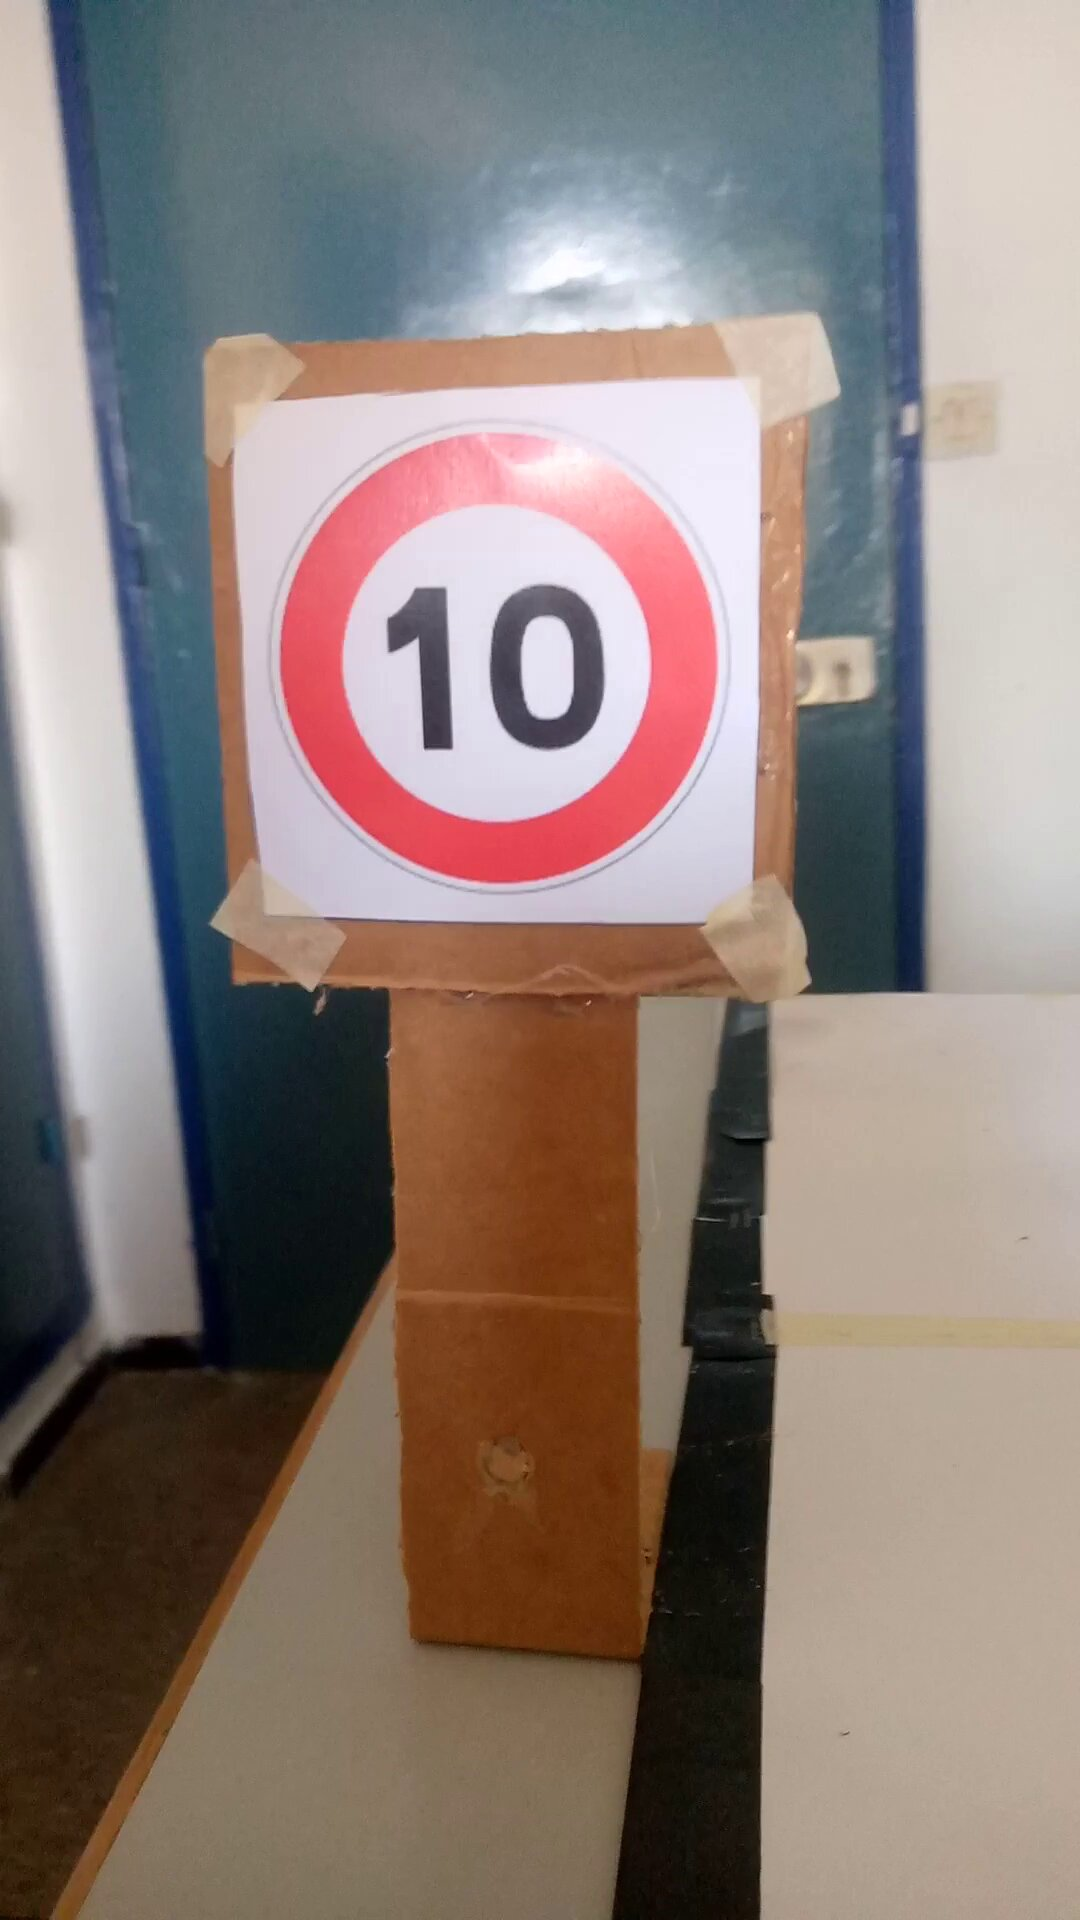panel011: (229, 389, 761, 931)
